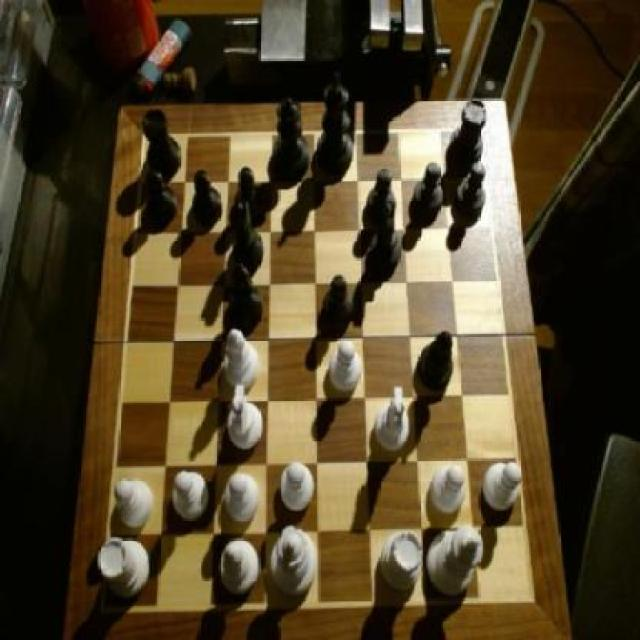bishop: (414, 332, 458, 391), (226, 266, 264, 331)
black-bishop: (317, 70, 358, 174)
black-king: (230, 199, 266, 273), (371, 201, 403, 274)
black-knight: (324, 272, 358, 335), (144, 169, 180, 224), (412, 162, 444, 222), (236, 165, 266, 227), (455, 164, 487, 222), (192, 171, 225, 226), (365, 169, 399, 222)
black-pawn: (268, 95, 312, 180)
black-queen: (448, 97, 487, 175), (143, 108, 184, 180)
black-rook: (218, 536, 262, 598), (222, 325, 260, 390)
white-bishop: (426, 523, 483, 597)
white-king: (223, 383, 267, 456), (372, 385, 415, 459)
white-knight: (112, 474, 155, 535), (171, 468, 214, 527), (485, 458, 527, 517), (431, 460, 471, 520), (223, 469, 263, 528), (280, 458, 317, 516), (332, 338, 365, 396)
white-pawn: (269, 523, 320, 602)
white-queen: (97, 534, 155, 604), (378, 528, 426, 599)
